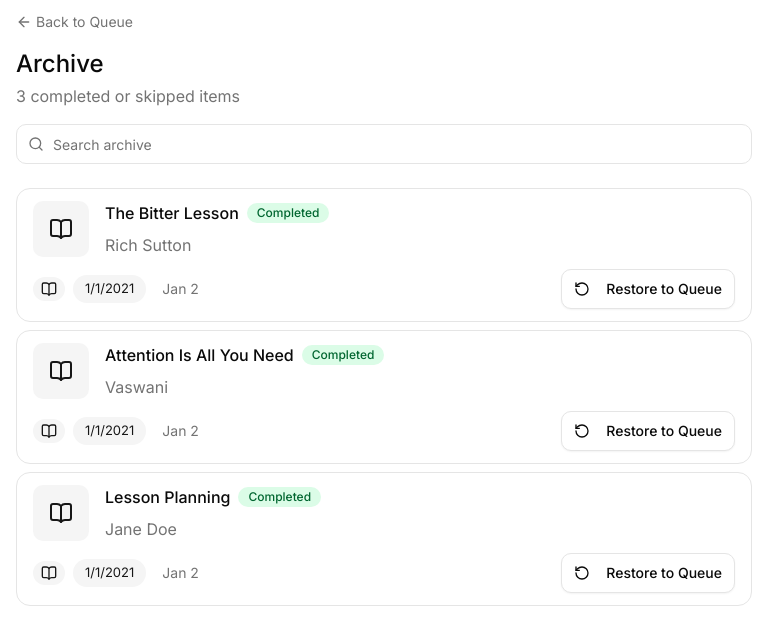
Test: ArchiveList search (#283) › renders a search field and filters cards by title or author
This screenshot has width=769, height=623.
Step 1. Type "lesson" into the search field named "Search by title or author" → [384, 144], box [16,124,752,164]
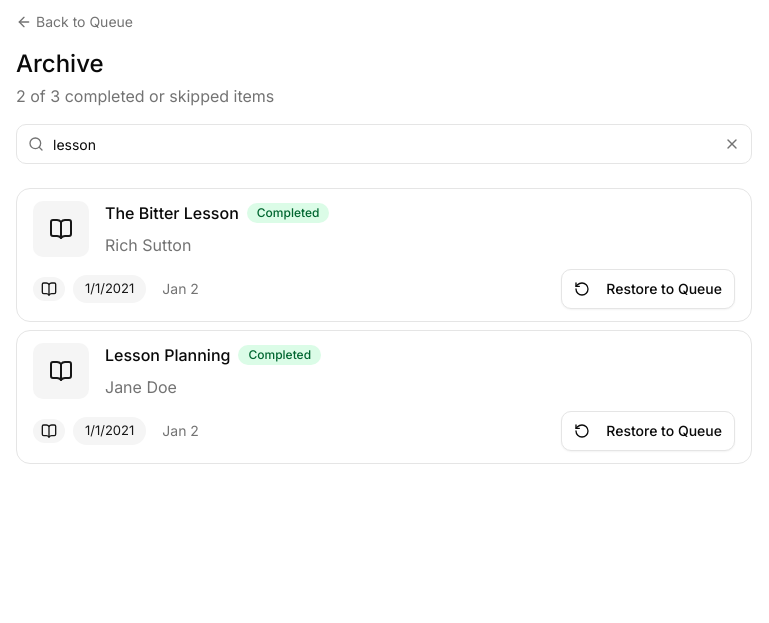
Expected: the heading "The Bitter Lesson" is shown, [105,201,239,225]
Result: the heading "Attention Is All You Need" is gone
Result: the text "2 of 3 completed or skipped items" is shown at [16,86,274,106]
